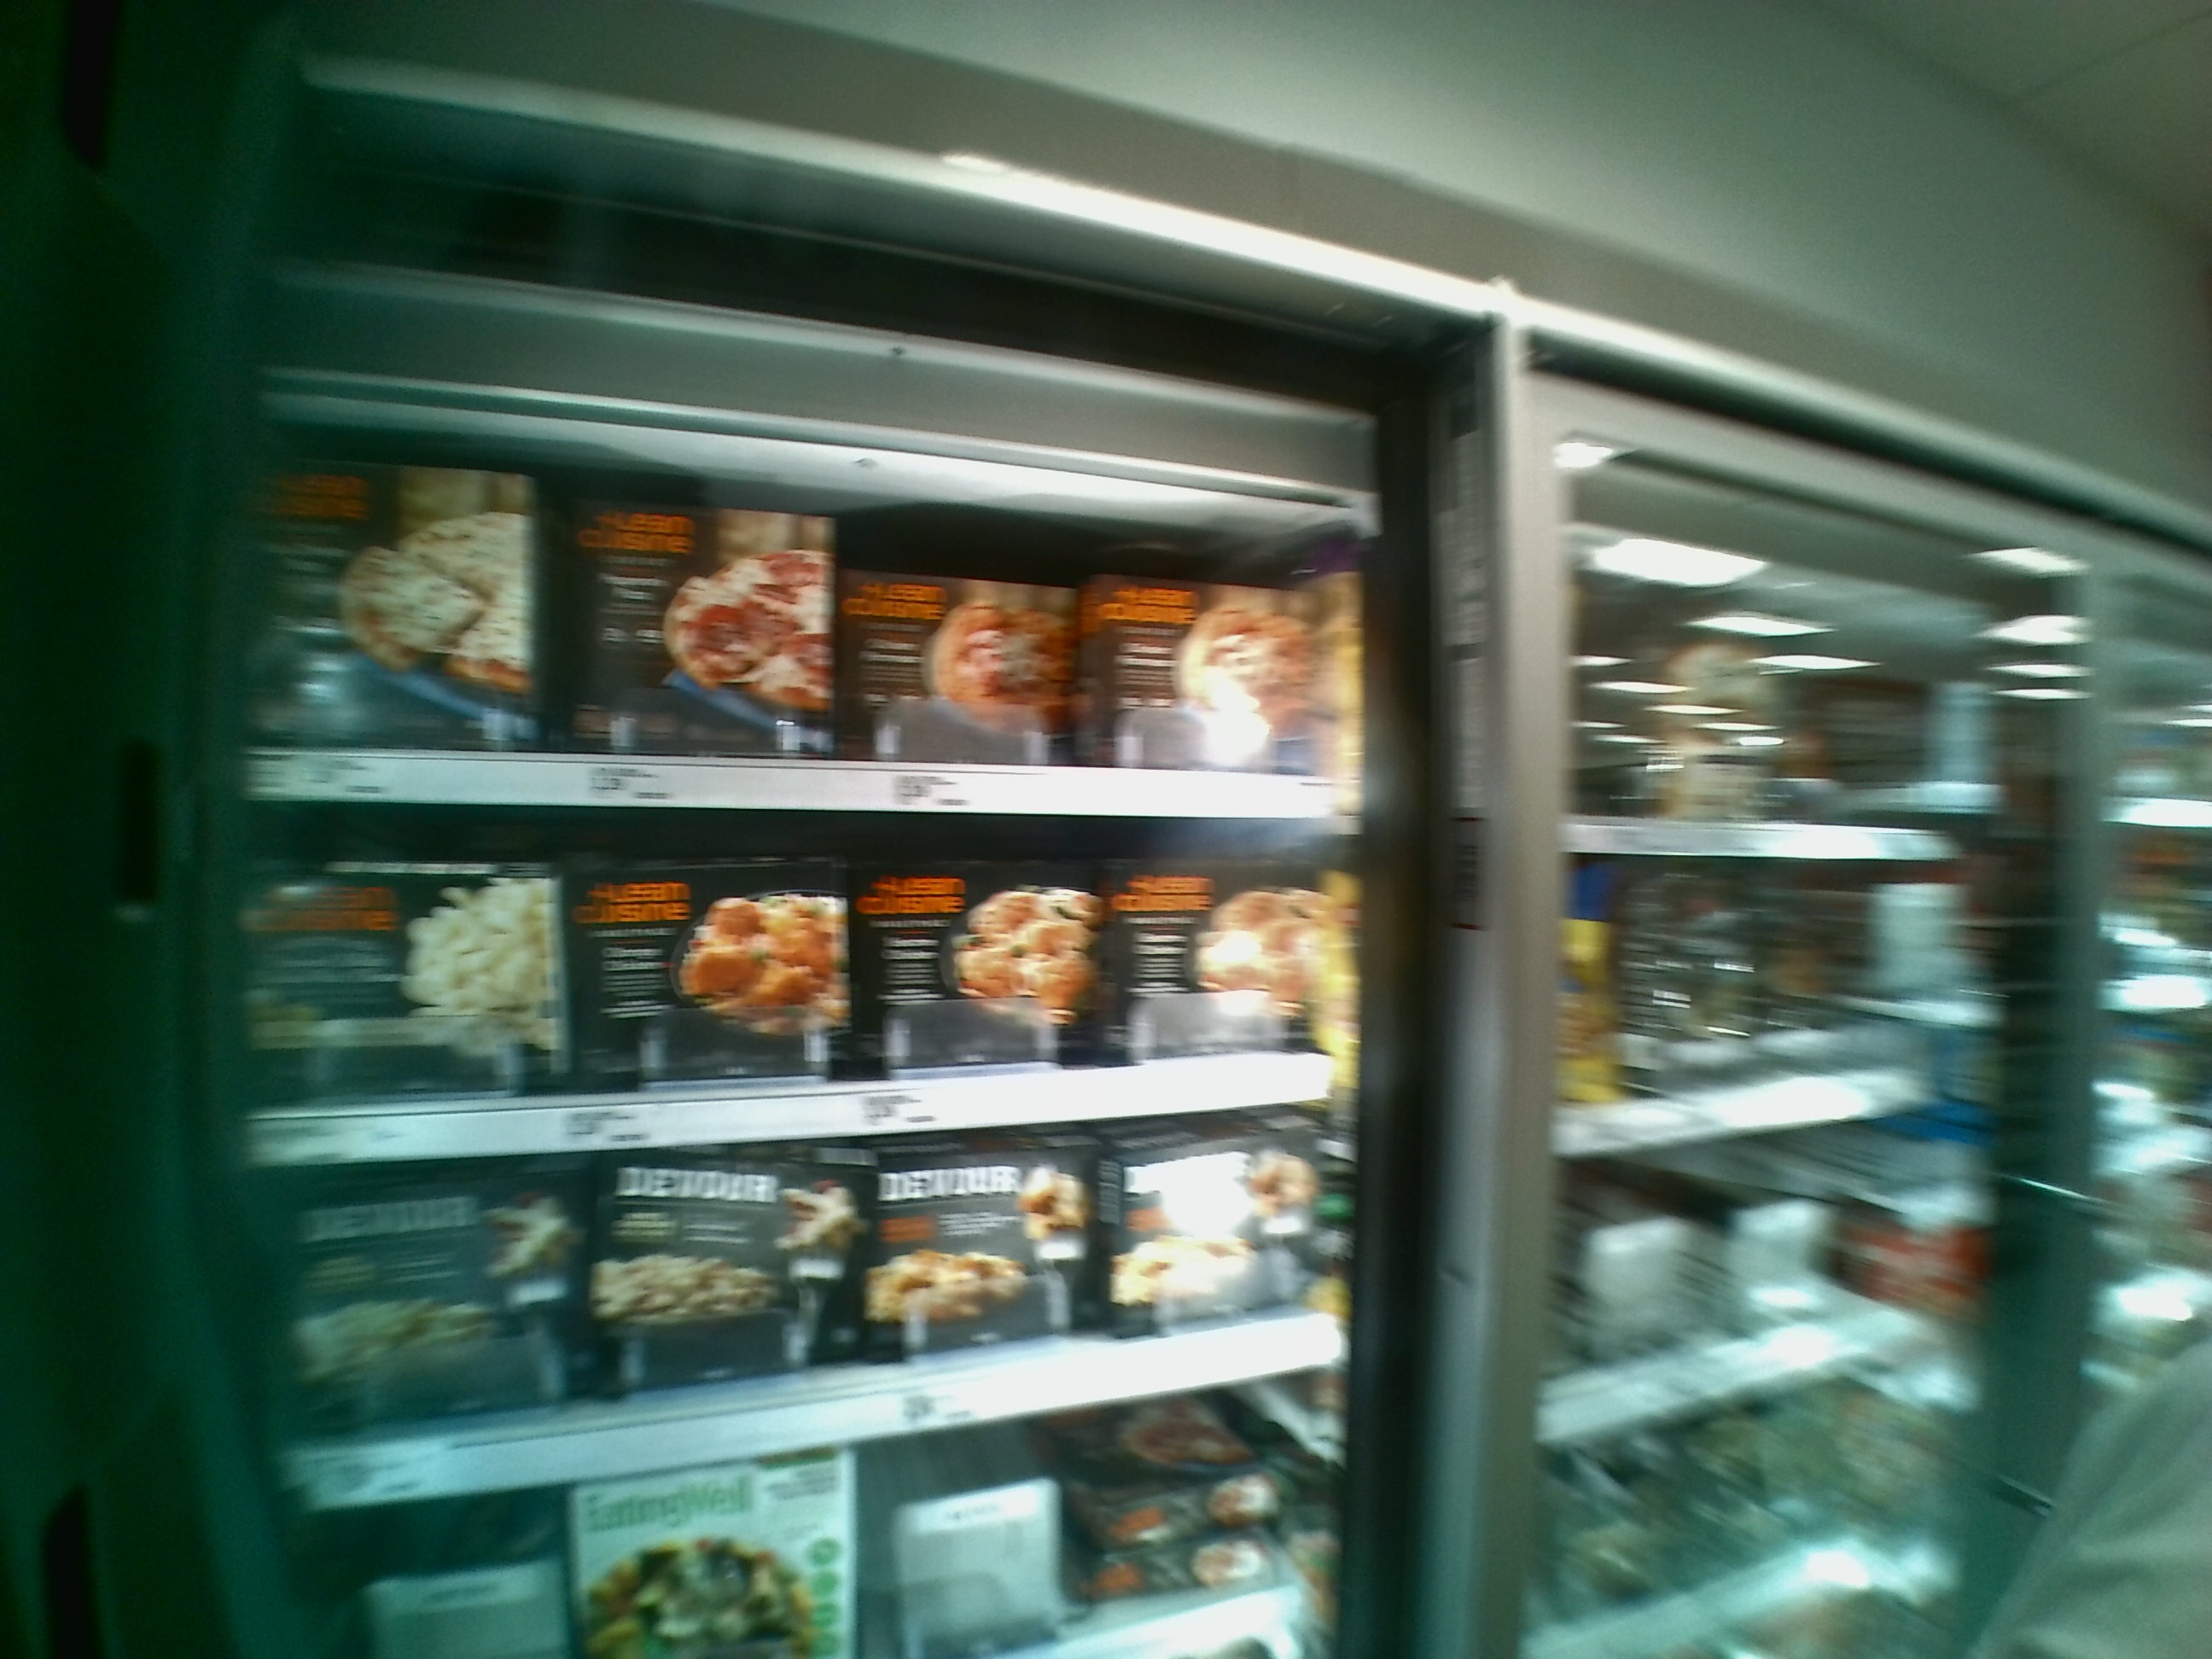shelf: (254, 396, 1362, 824), (244, 798, 1390, 1171)
